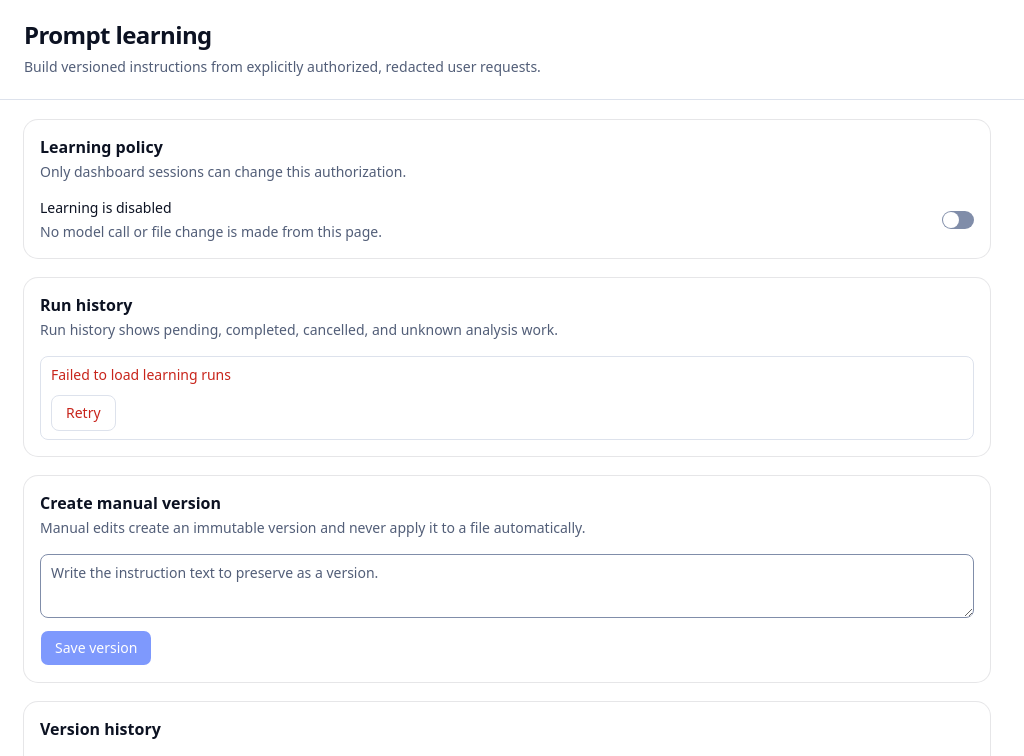
it: prompt learning failure recovery › reports a run failure independently and retries it to a successful empty history
The width and height of the screenshot is (1024, 756).
Check: the message shows "Failed to load learning runs", box [51, 365, 231, 384]
Check: the text "No learning runs yet." is not shown
Click the button "Retry".
click(83, 413)  # box [51, 395, 116, 431]
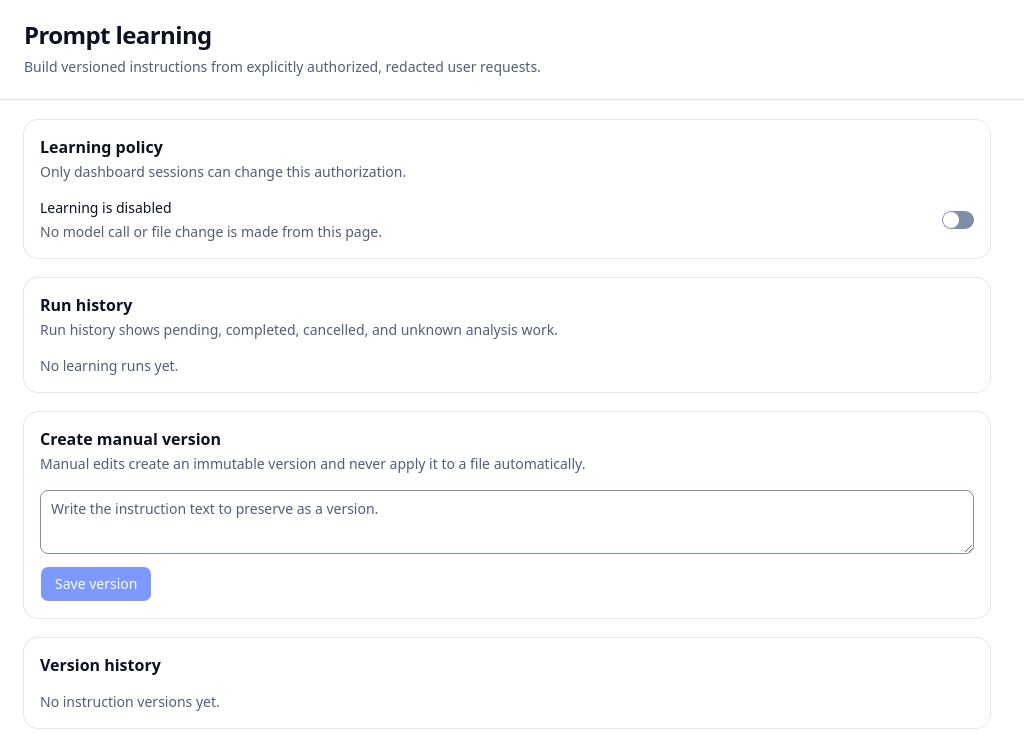
Check: the text "No learning runs yet." is shown, box [40, 356, 178, 375]
